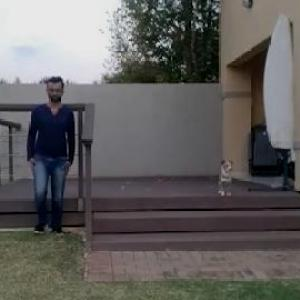follow: (23, 73, 74, 237)
